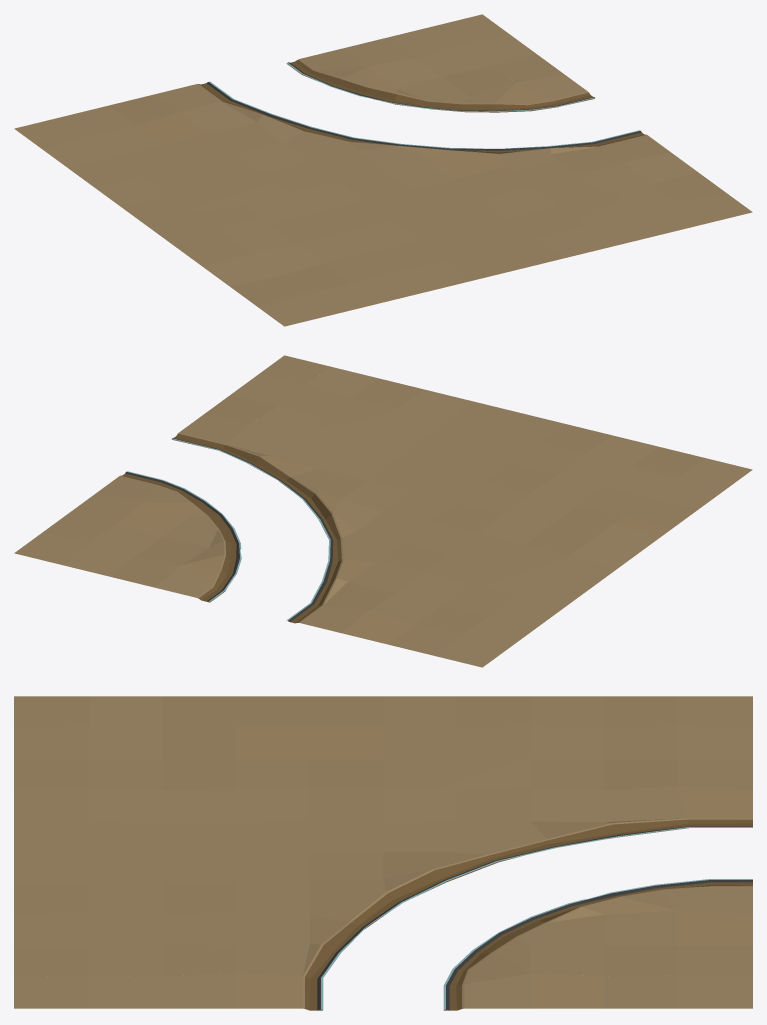
File: model_road_dirtcornor_1_.fbx
3 views of the same model, one above another, from view 1: azimuth 30°, elevation 25°; view 2: azimuth 150°, elevation 25°; view 3: azimuth 270°, elevation 25° (orthographic). The views are drawn at different scales.
Parts seen in each view (by area): view 1: model_road_dirt_cornor_1; view 2: model_road_dirt_cornor_1; view 3: model_road_dirt_cornor_1.
Part boxes in pixels (x1=…): model_road_dirt_cornor_1: x1=14, y1=14, x2=752, y2=326; model_road_dirt_cornor_1: x1=14, y1=355, x2=752, y2=667; model_road_dirt_cornor_1: x1=14, y1=696, x2=752, y2=1010.
Size of the model in its own units: 0.6162 by 0.6161 by 0.00628.
